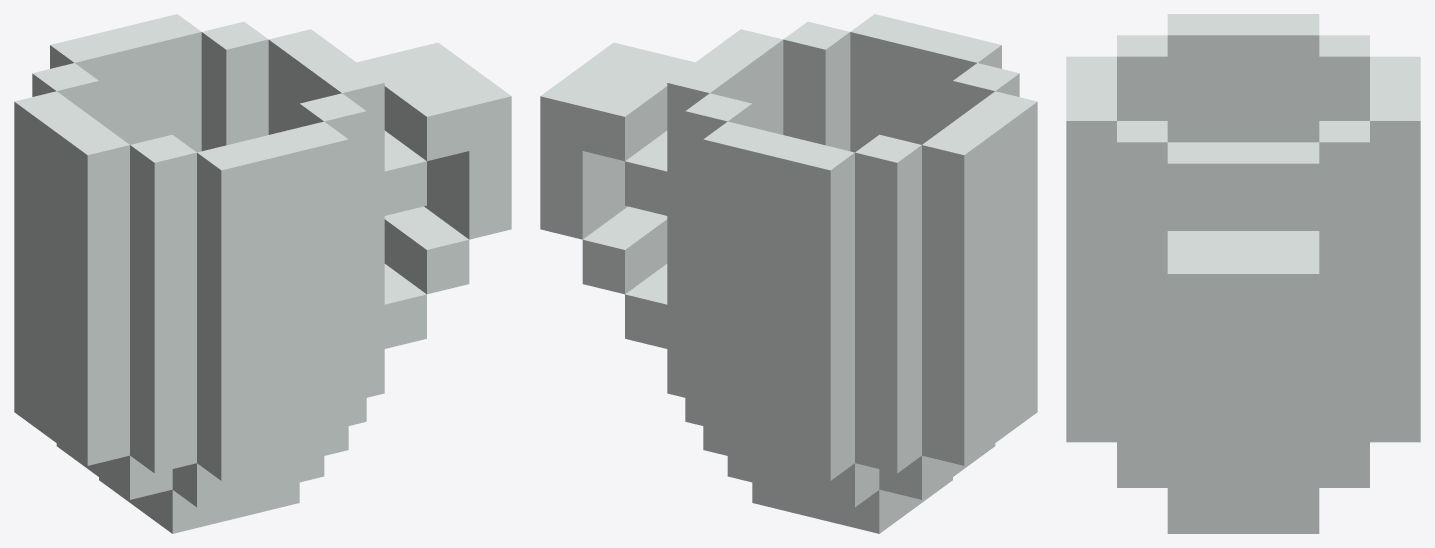
Rendered from Mug.obj.
The picture shows the model from 3 angles, left to right: view 1: azimuth 30°, elevation 25°; view 2: azimuth 150°, elevation 25°; view 3: azimuth 270°, elevation 25°; orthographic projection. The views are drawn at different scales.
Parts seen in each view (by area): view 1: Mug; view 2: Mug; view 3: Mug.
Part boxes in pixels (x1,y1,x2,y2): Mug: [14, 14, 511, 533]; Mug: [540, 14, 1037, 533]; Mug: [1066, 14, 1420, 533].
Size of the model in its own units: 10 by 9 by 7.
Materials: 1 (1 with a texture image).
